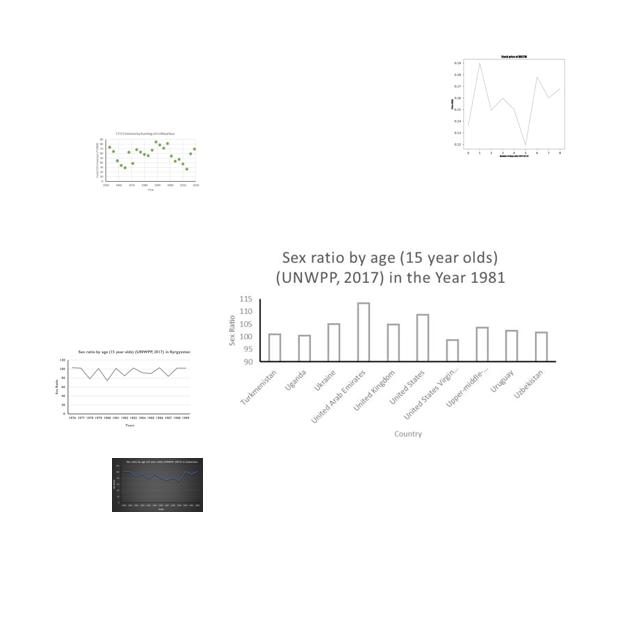Graph: (218, 242, 560, 441), (427, 45, 597, 162), (52, 347, 195, 429), (94, 131, 200, 193), (112, 458, 203, 512)
